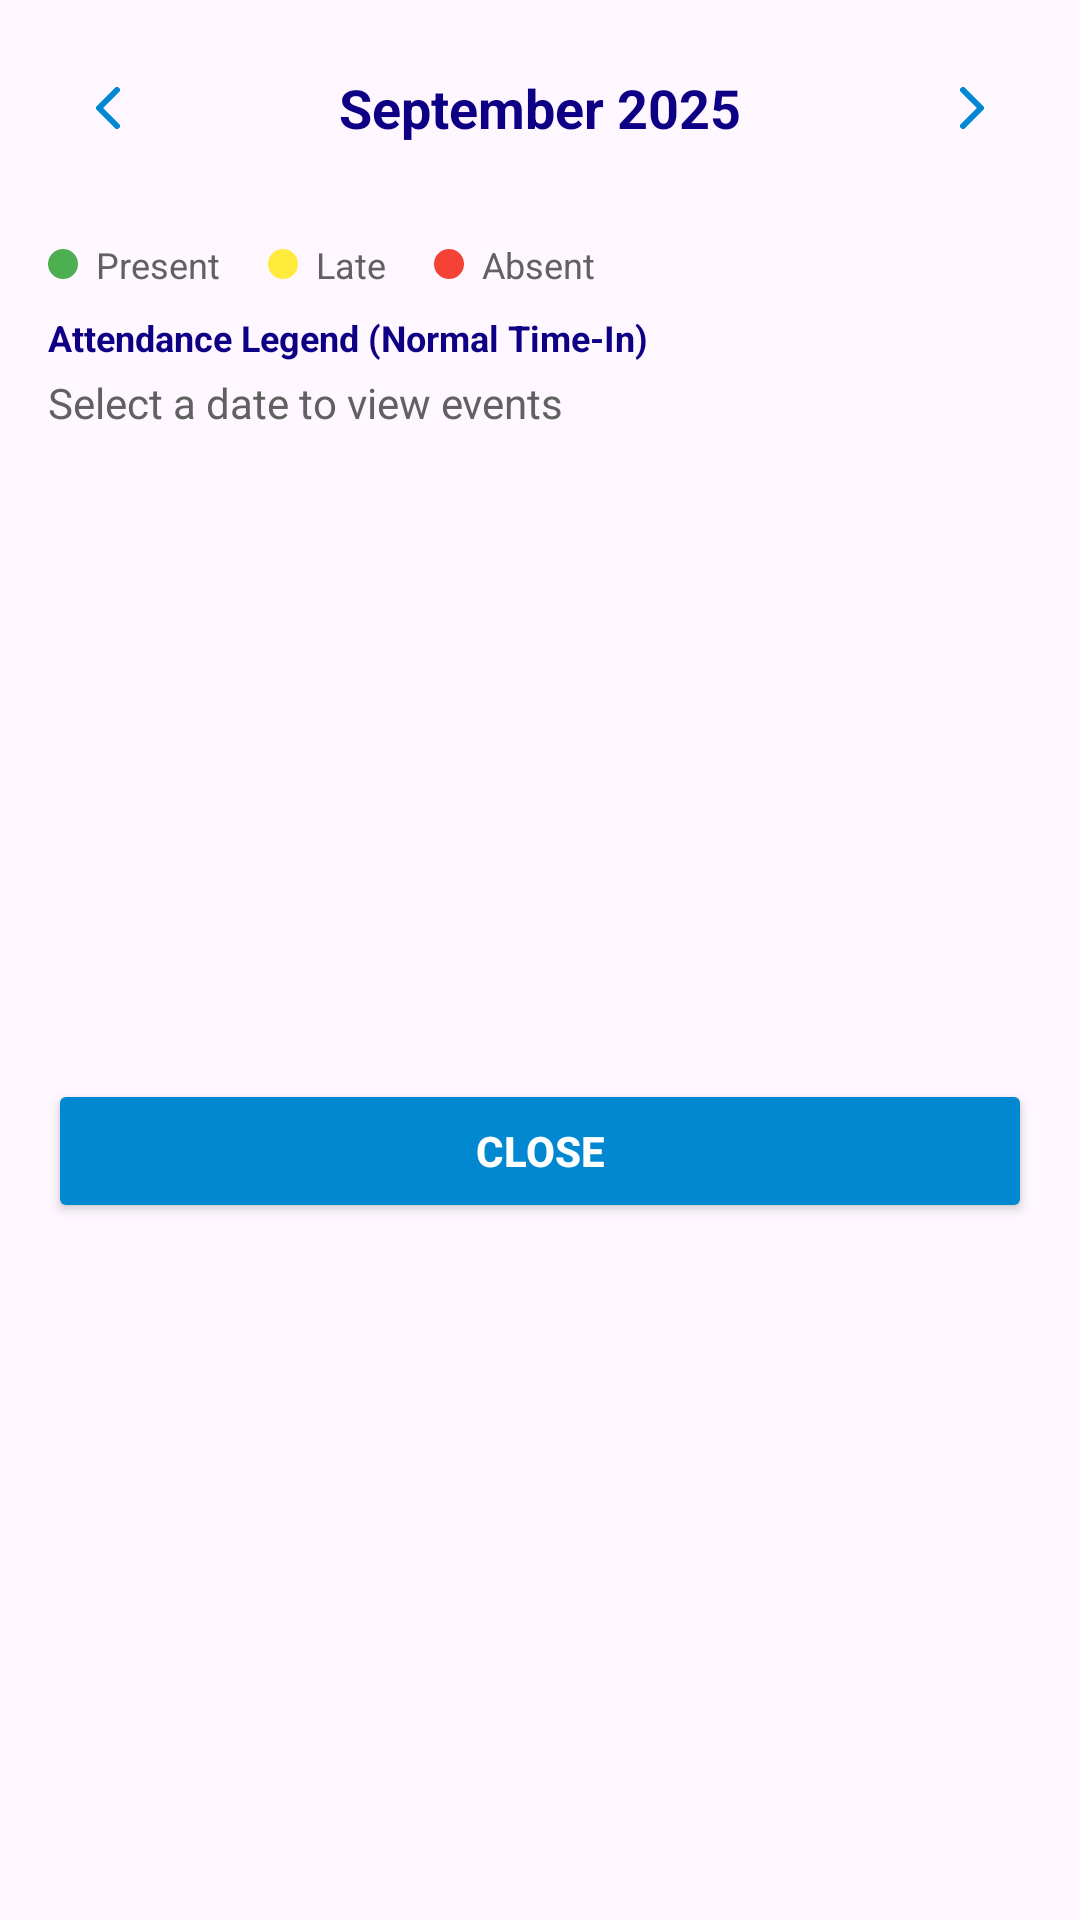

Named icons in this screenshot (1080 × 1920) and their bounding boxes, detection(x1, y1, x2, y2):
Next Month: detection(960, 87, 984, 129)
Previous Month: detection(96, 87, 120, 129)
